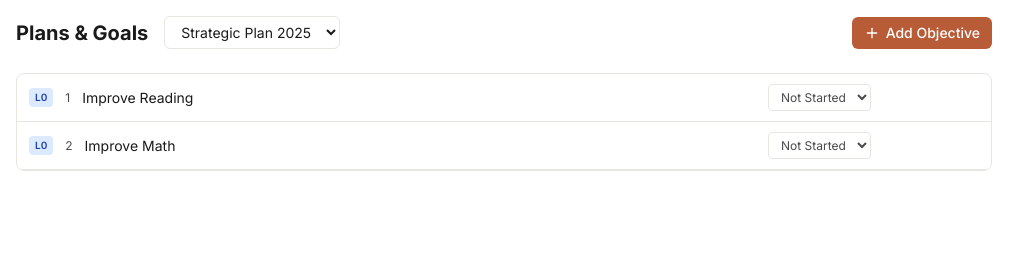
Test: V2PlanEditor › shows Add Objective inline form when button is clicked
Step 1. Click the button "Add Objective" → (922,32), box [852, 16, 992, 48]
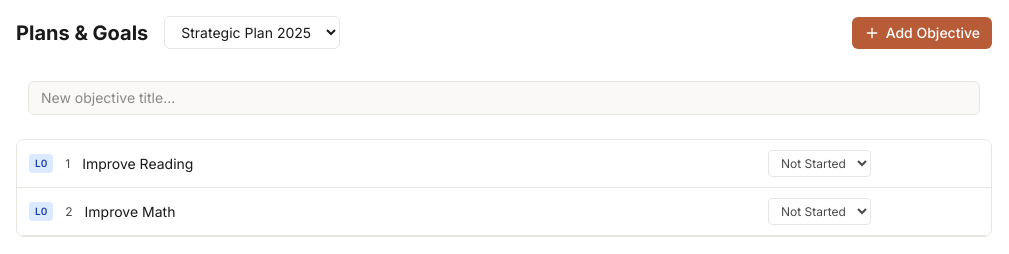
Expected: the field with placeholder "New objective title..." is shown, [28, 81, 980, 115]
